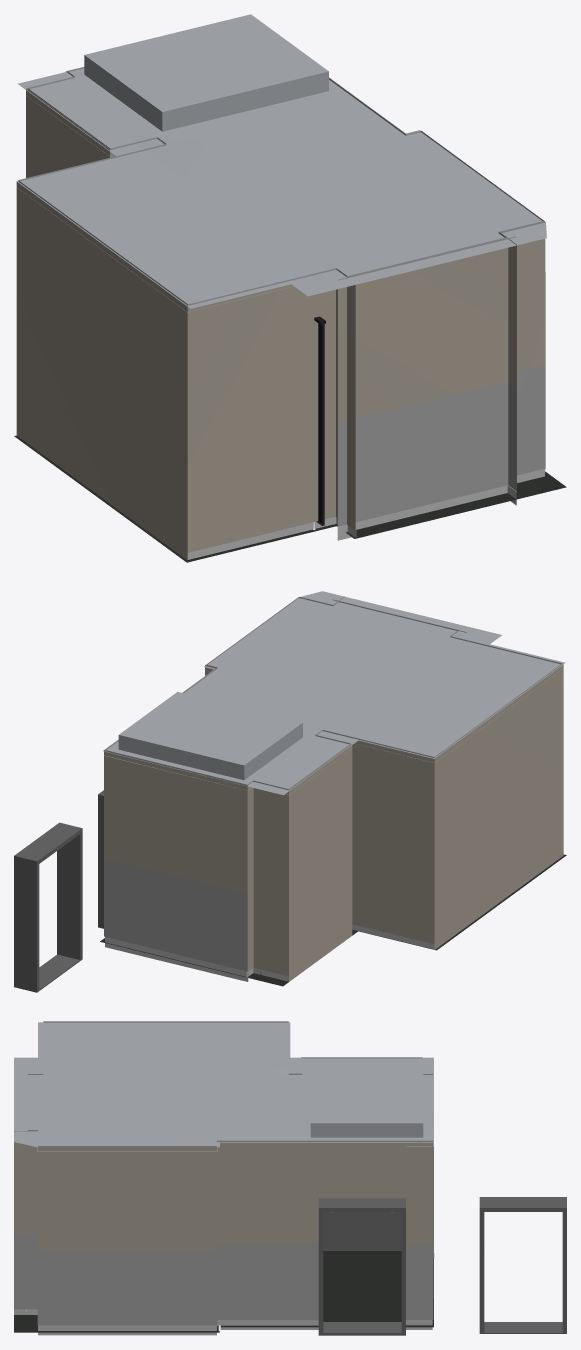
Rendered from SM_H_Building_Tide_LogisticsArea_02_ATLAS.fbx.
3 views of the same model, one above another, from view 1: azimuth 30°, elevation 25°; view 2: azimuth 150°, elevation 25°; view 3: azimuth 270°, elevation 25° (orthographic). The views are drawn at different scales.
Visible parts, largest first — view 1: SM_H_Building_Tide_LogisticsArea_02_ATLAS; view 2: SM_H_Building_Tide_LogisticsArea_02_ATLAS; view 3: SM_H_Building_Tide_LogisticsArea_02_ATLAS.
Boxes of the visible parts, <box> form: SM_H_Building_Tide_LogisticsArea_02_ATLAS: <box>14,14,566,562</box>; SM_H_Building_Tide_LogisticsArea_02_ATLAS: <box>14,591,566,992</box>; SM_H_Building_Tide_LogisticsArea_02_ATLAS: <box>14,1021,566,1335</box>.
Size of the model in its own units: 568 by 1018 by 411.
